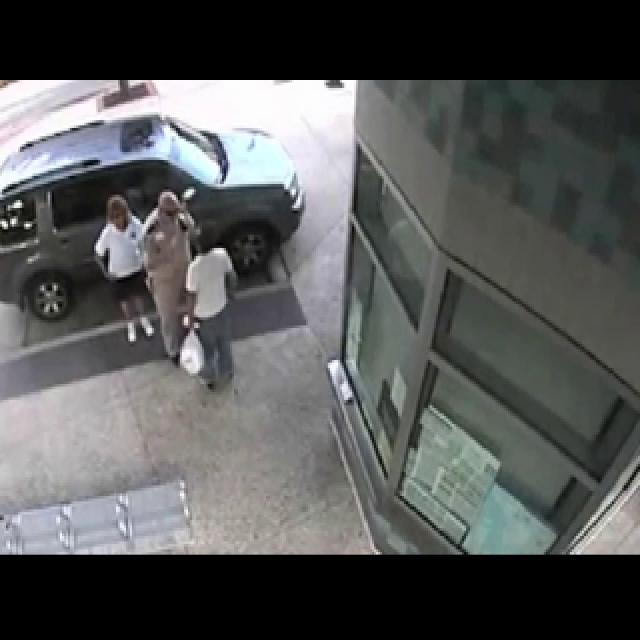arrest: (110, 116, 270, 349)
